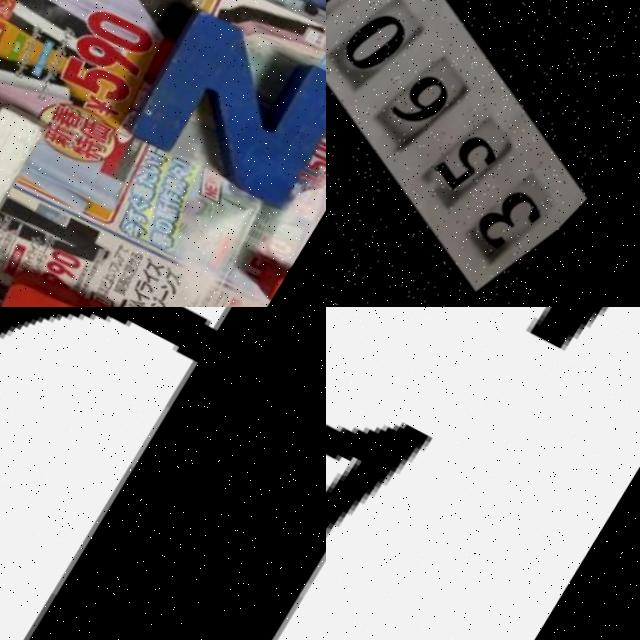0: (326, 0, 454, 114)
3: (458, 159, 587, 288)
5: (326, 307, 640, 640), (415, 105, 540, 229), (326, 0, 402, 52)
6: (367, 43, 495, 171)
H: (0, 44, 62, 244)
N: (115, 0, 326, 218)
